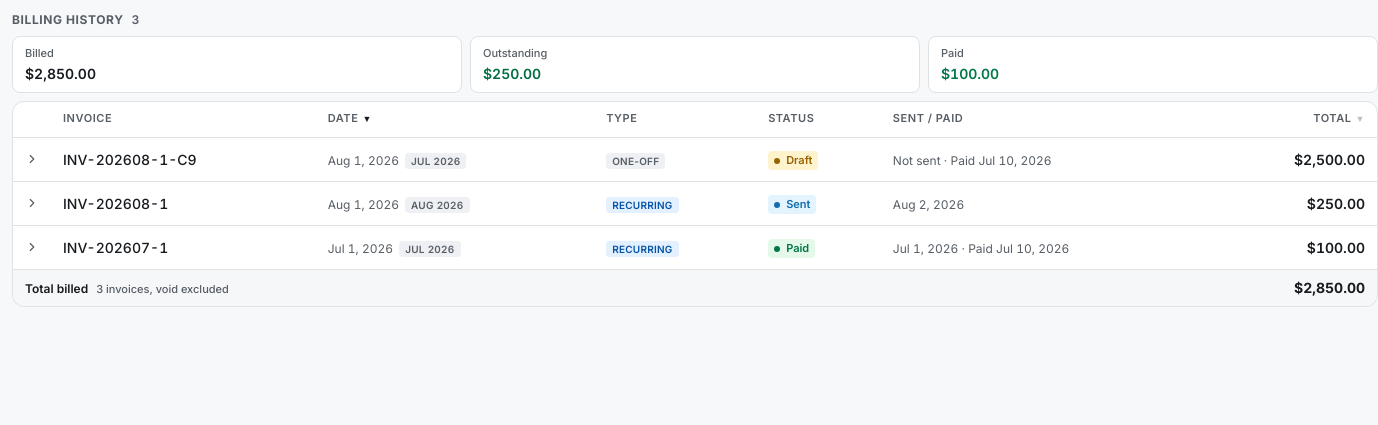
Test: BillingTimeline (C16) › expands a row into its line items with the discount visible
Click the 2nd button with test id "billing-timeline-expand": (32, 203) [21, 192, 43, 214]
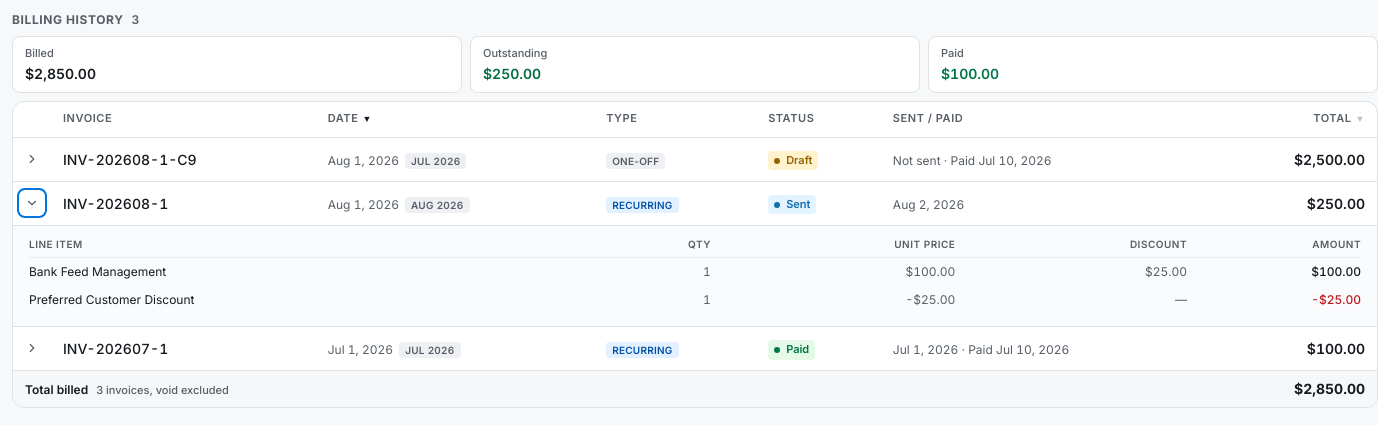
Expected: the row with test id "billing-timeline-lines" shows "Bank Feed Management", [29, 264, 166, 279]
Expected: the row with test id "billing-timeline-lines" shows "Preferred Customer Discount", [29, 292, 194, 307]
Expected: the row with test id "billing-timeline-lines" shows "-$25.00", [906, 292, 955, 307]
Click the 2nd button with test id "billing-timeline-expand": (32, 203) [21, 192, 43, 214]
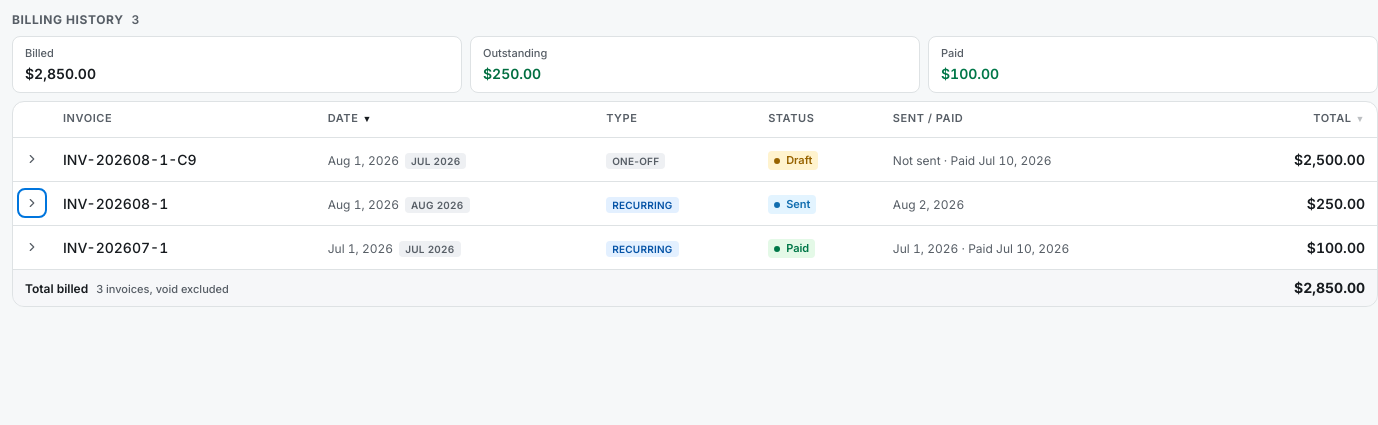
Expected: the row with test id "billing-timeline-lines" is gone
